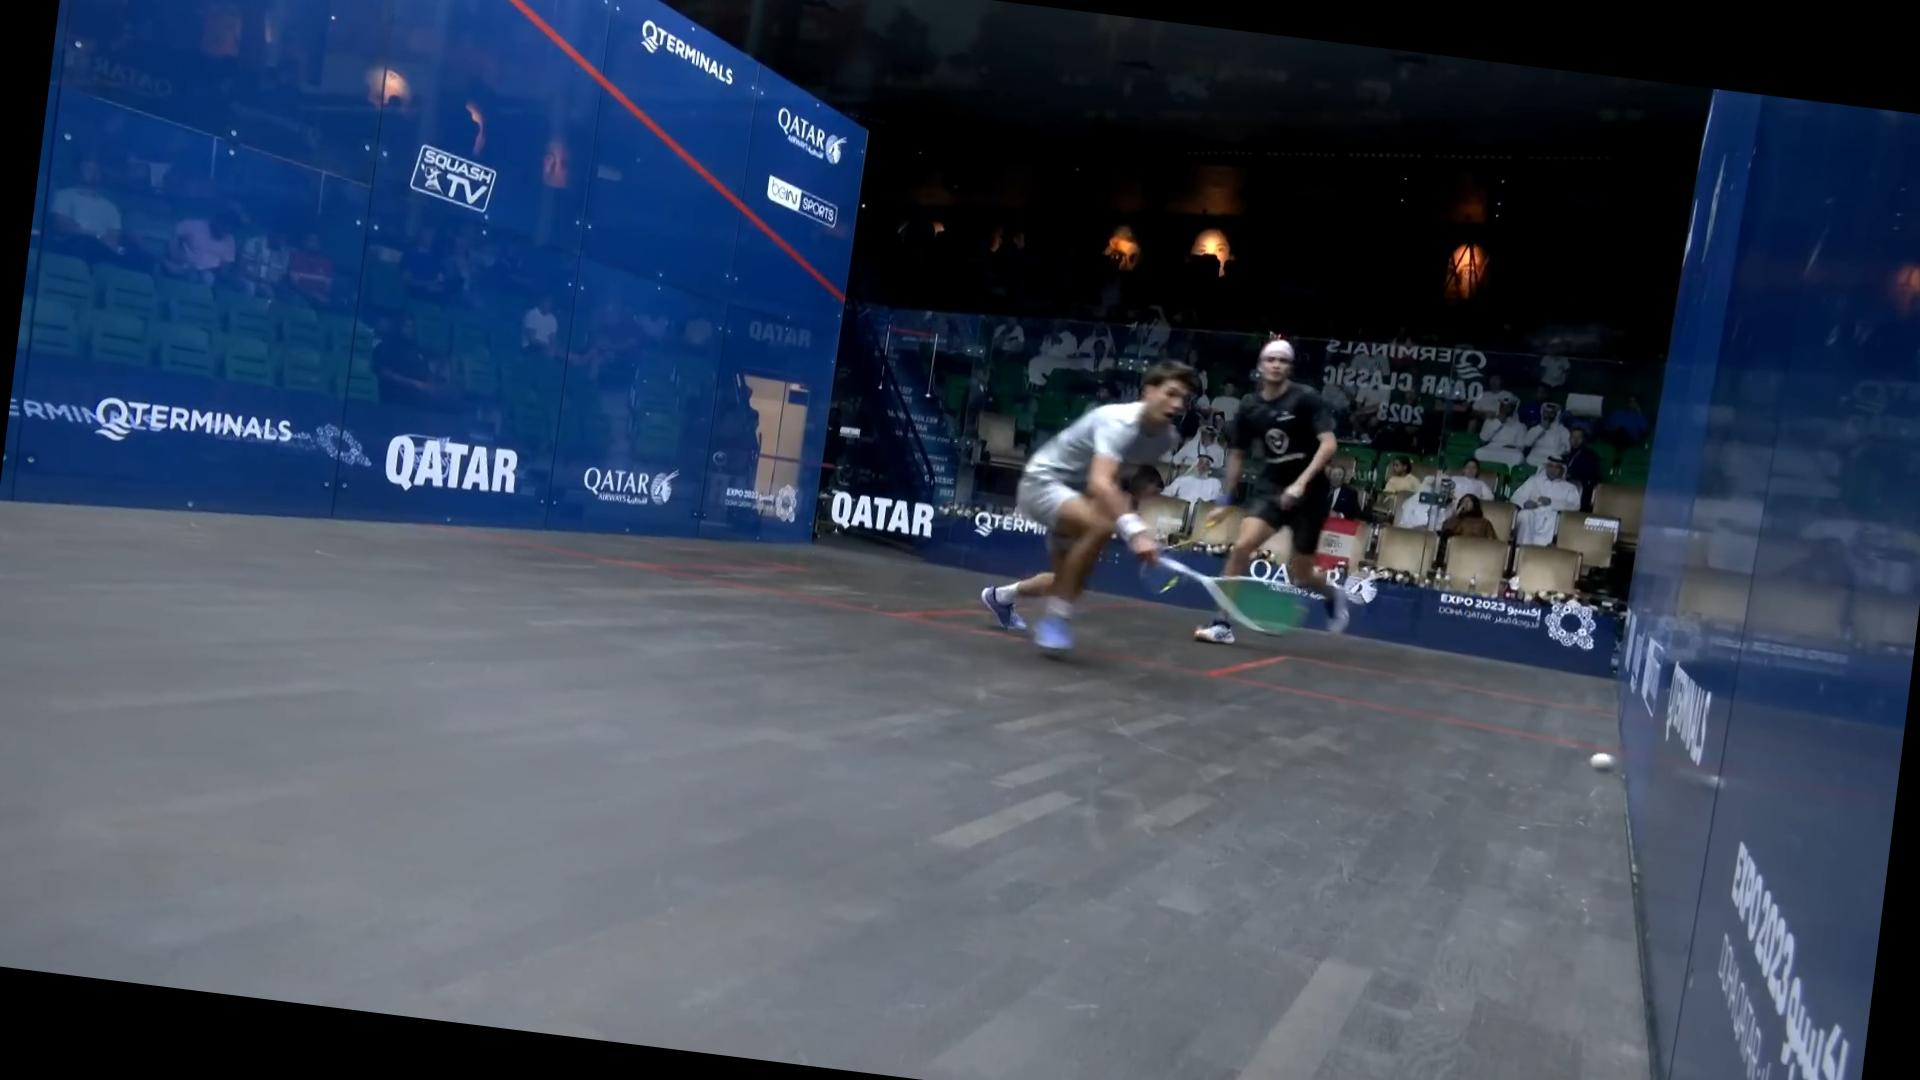Racket: (1138, 553, 1302, 644)
